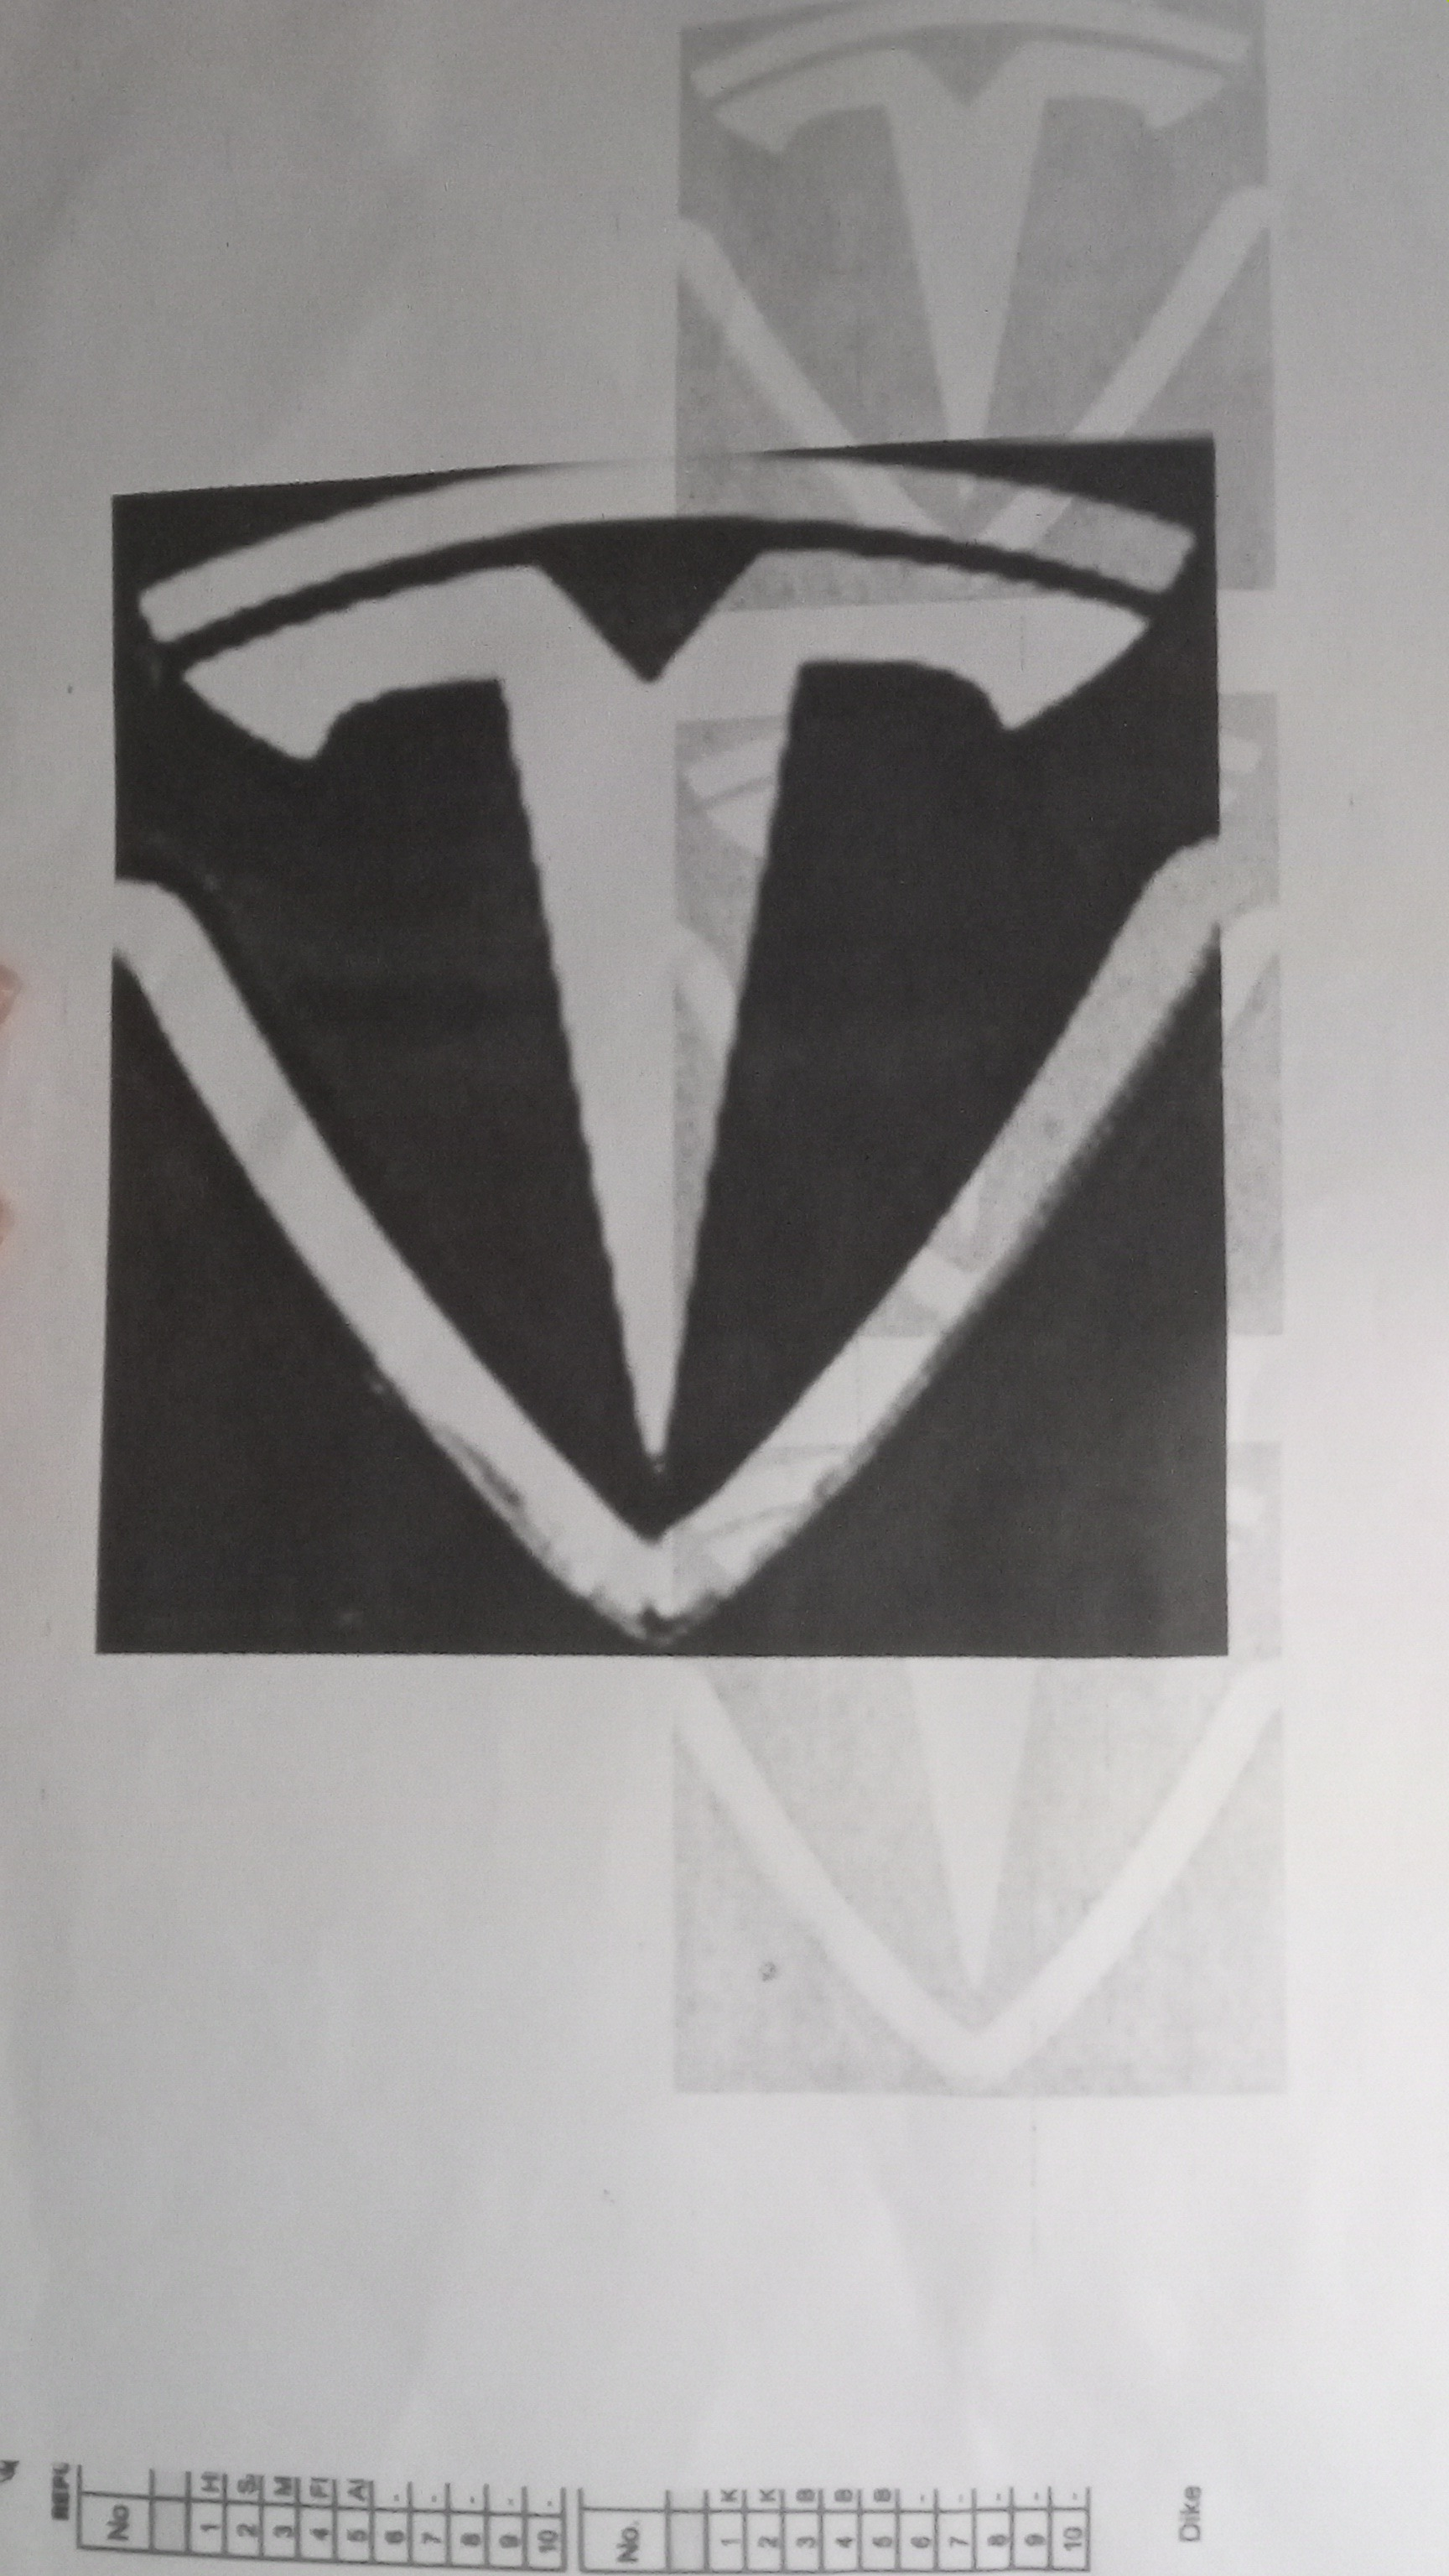Tesla: (103, 453, 1251, 1654)
